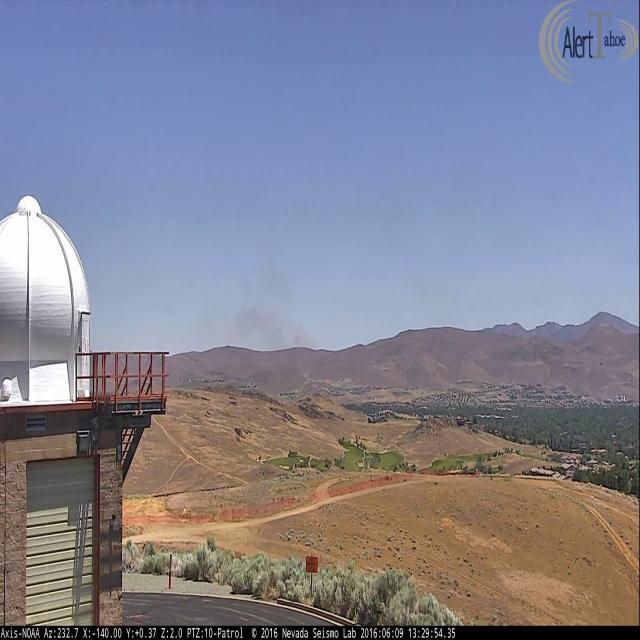smoke: (231, 243, 319, 352)
